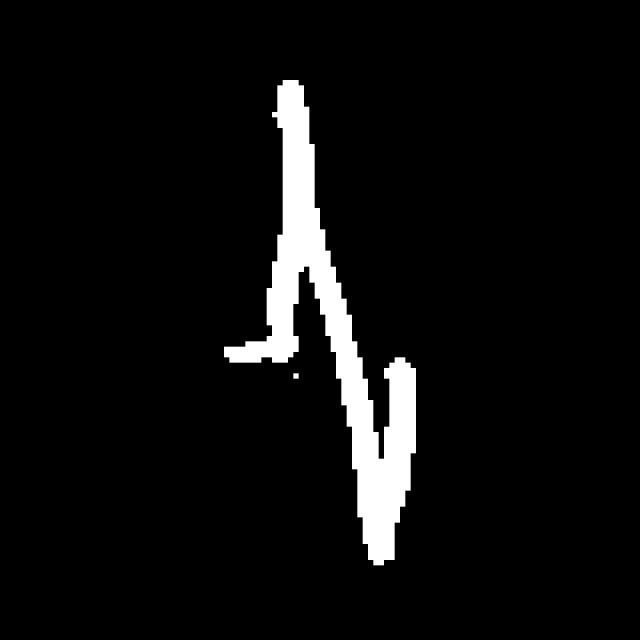resistor: (255, 65, 422, 574)
